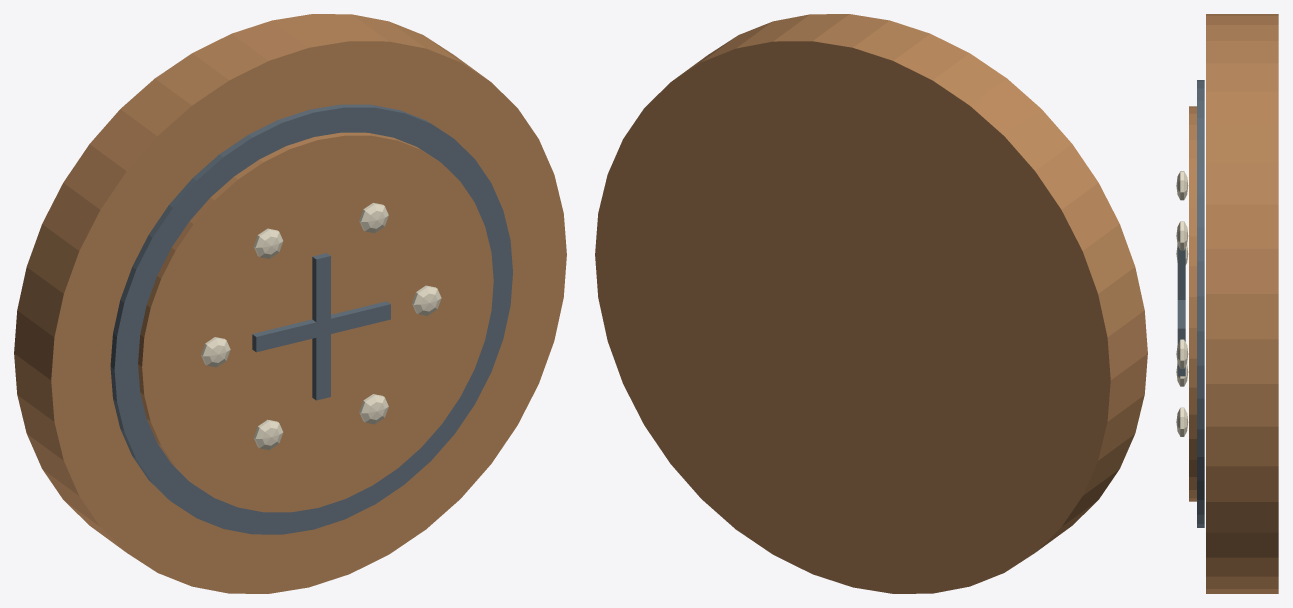
The model's file is shivrai.glb.
3 renders of one model, left to right at view 1: azimuth 30°, elevation 25°; view 2: azimuth 150°, elevation 25°; view 3: azimuth 270°, elevation 25°, orthographic. The views are drawn at different scales.
Visible parts, largest first — view 1: Shivrai; view 2: Shivrai; view 3: Shivrai.
Part boxes in pixels (x1,y1,x2,y2): Shivrai: (14,14,566,593); Shivrai: (595,14,1147,593); Shivrai: (1176,14,1278,593).
Bounding box in the file's own units: 0.88 × 0.88 × 0.155.
